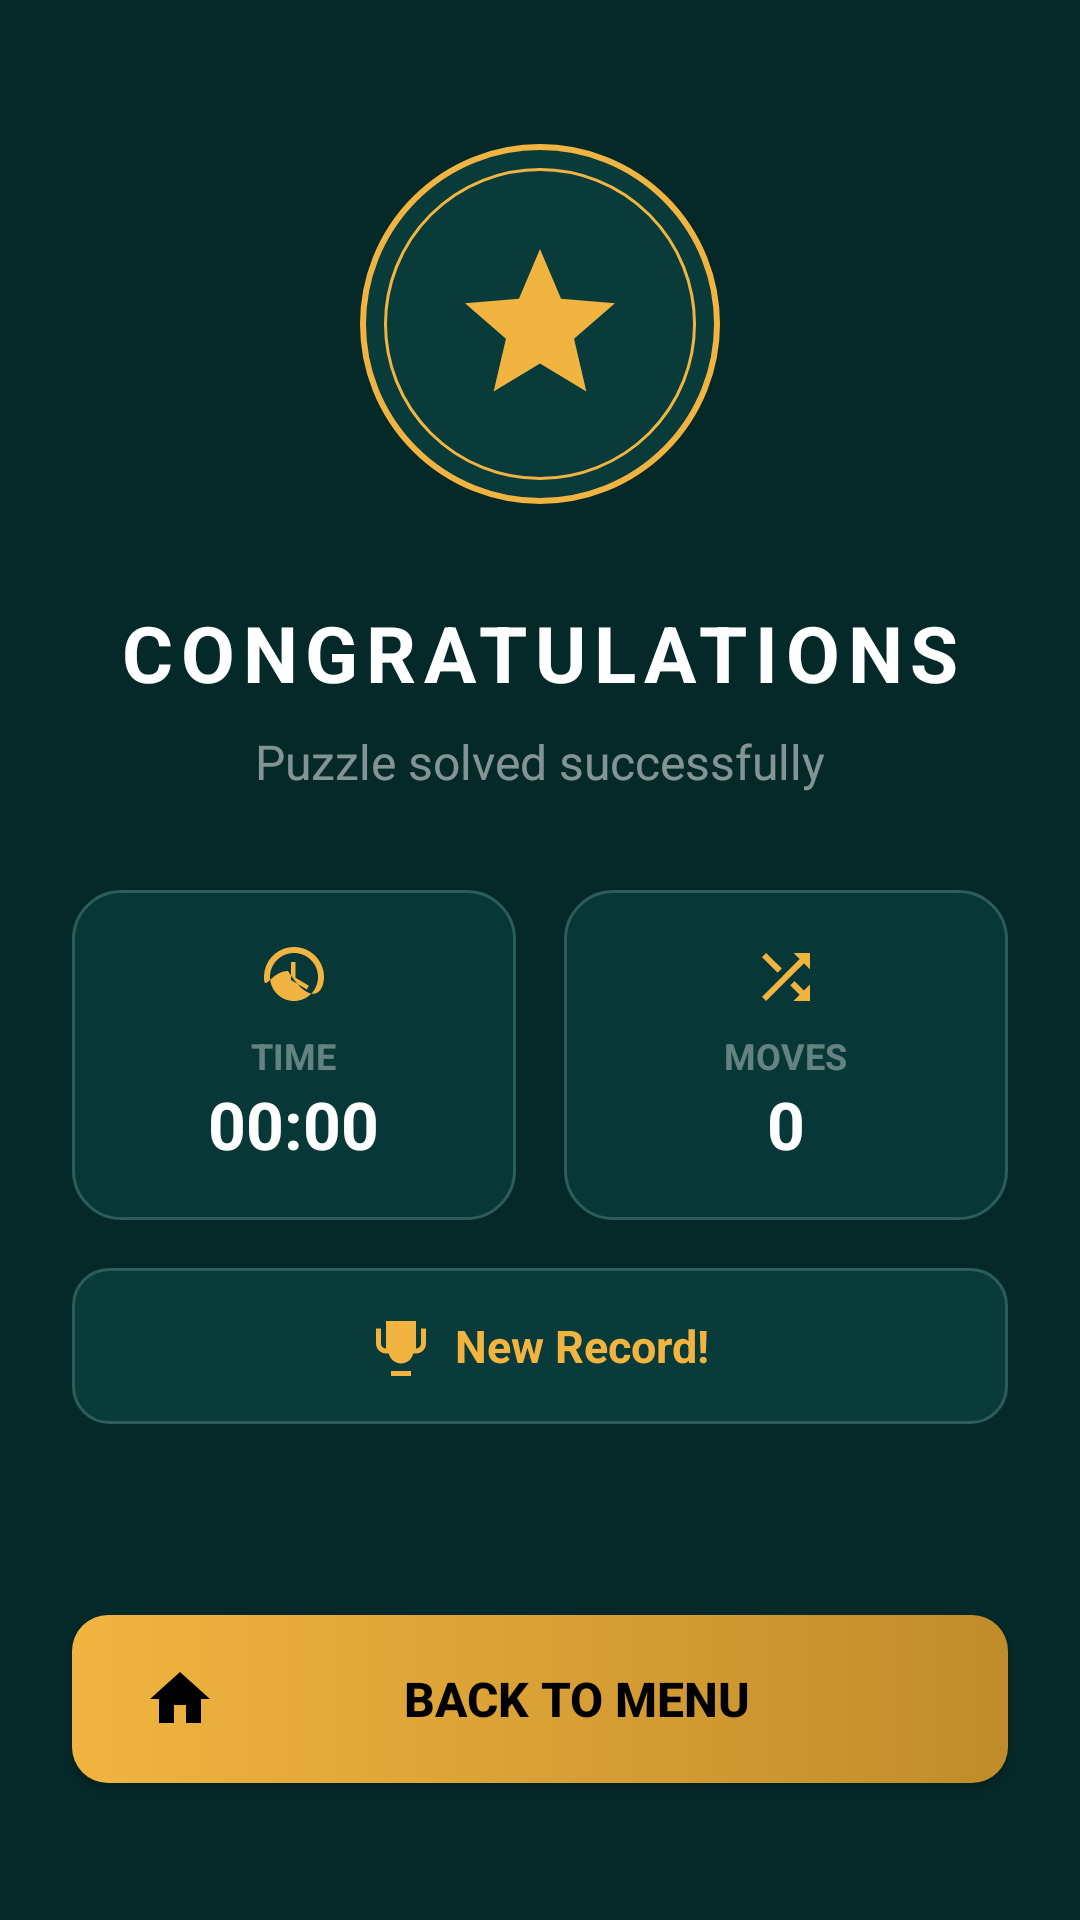

Icons on this 1080w x 1920h Android screen, each with the point to tap as (x=x, y=y):
Star: (x=540, y=320)
Trophy: (x=401, y=1348)
